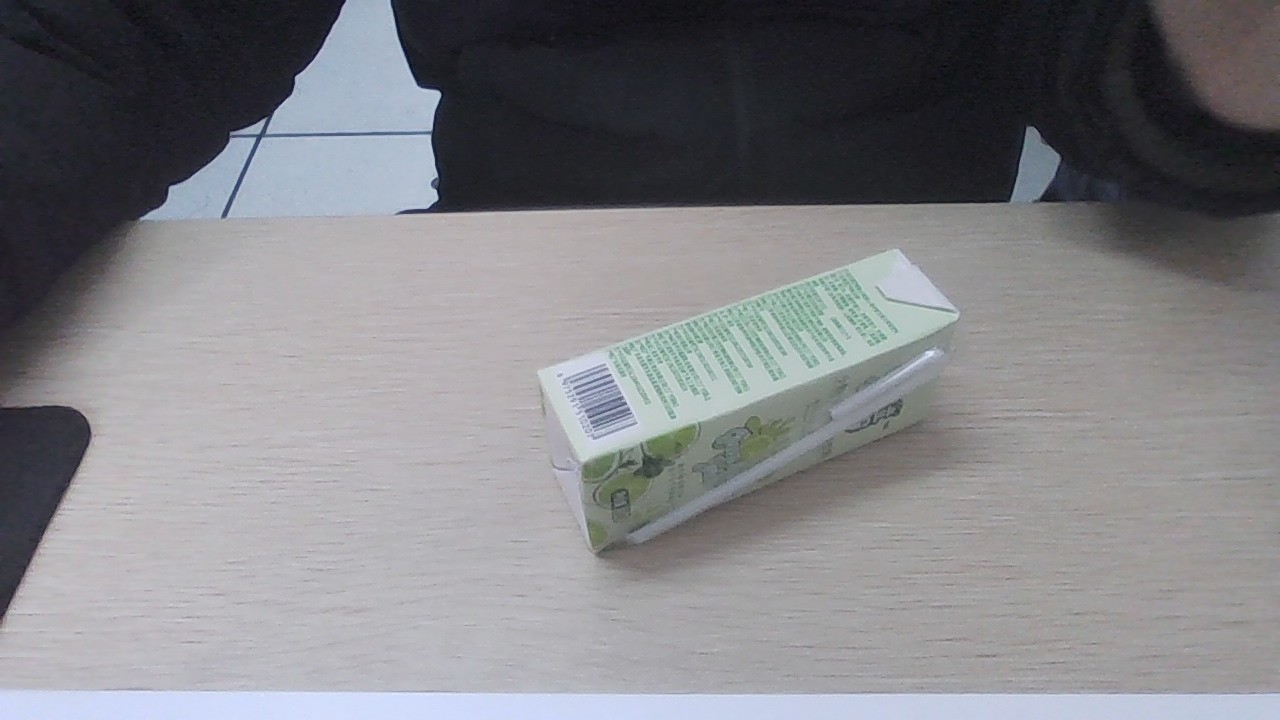CY-drink: (531, 253, 944, 533)
